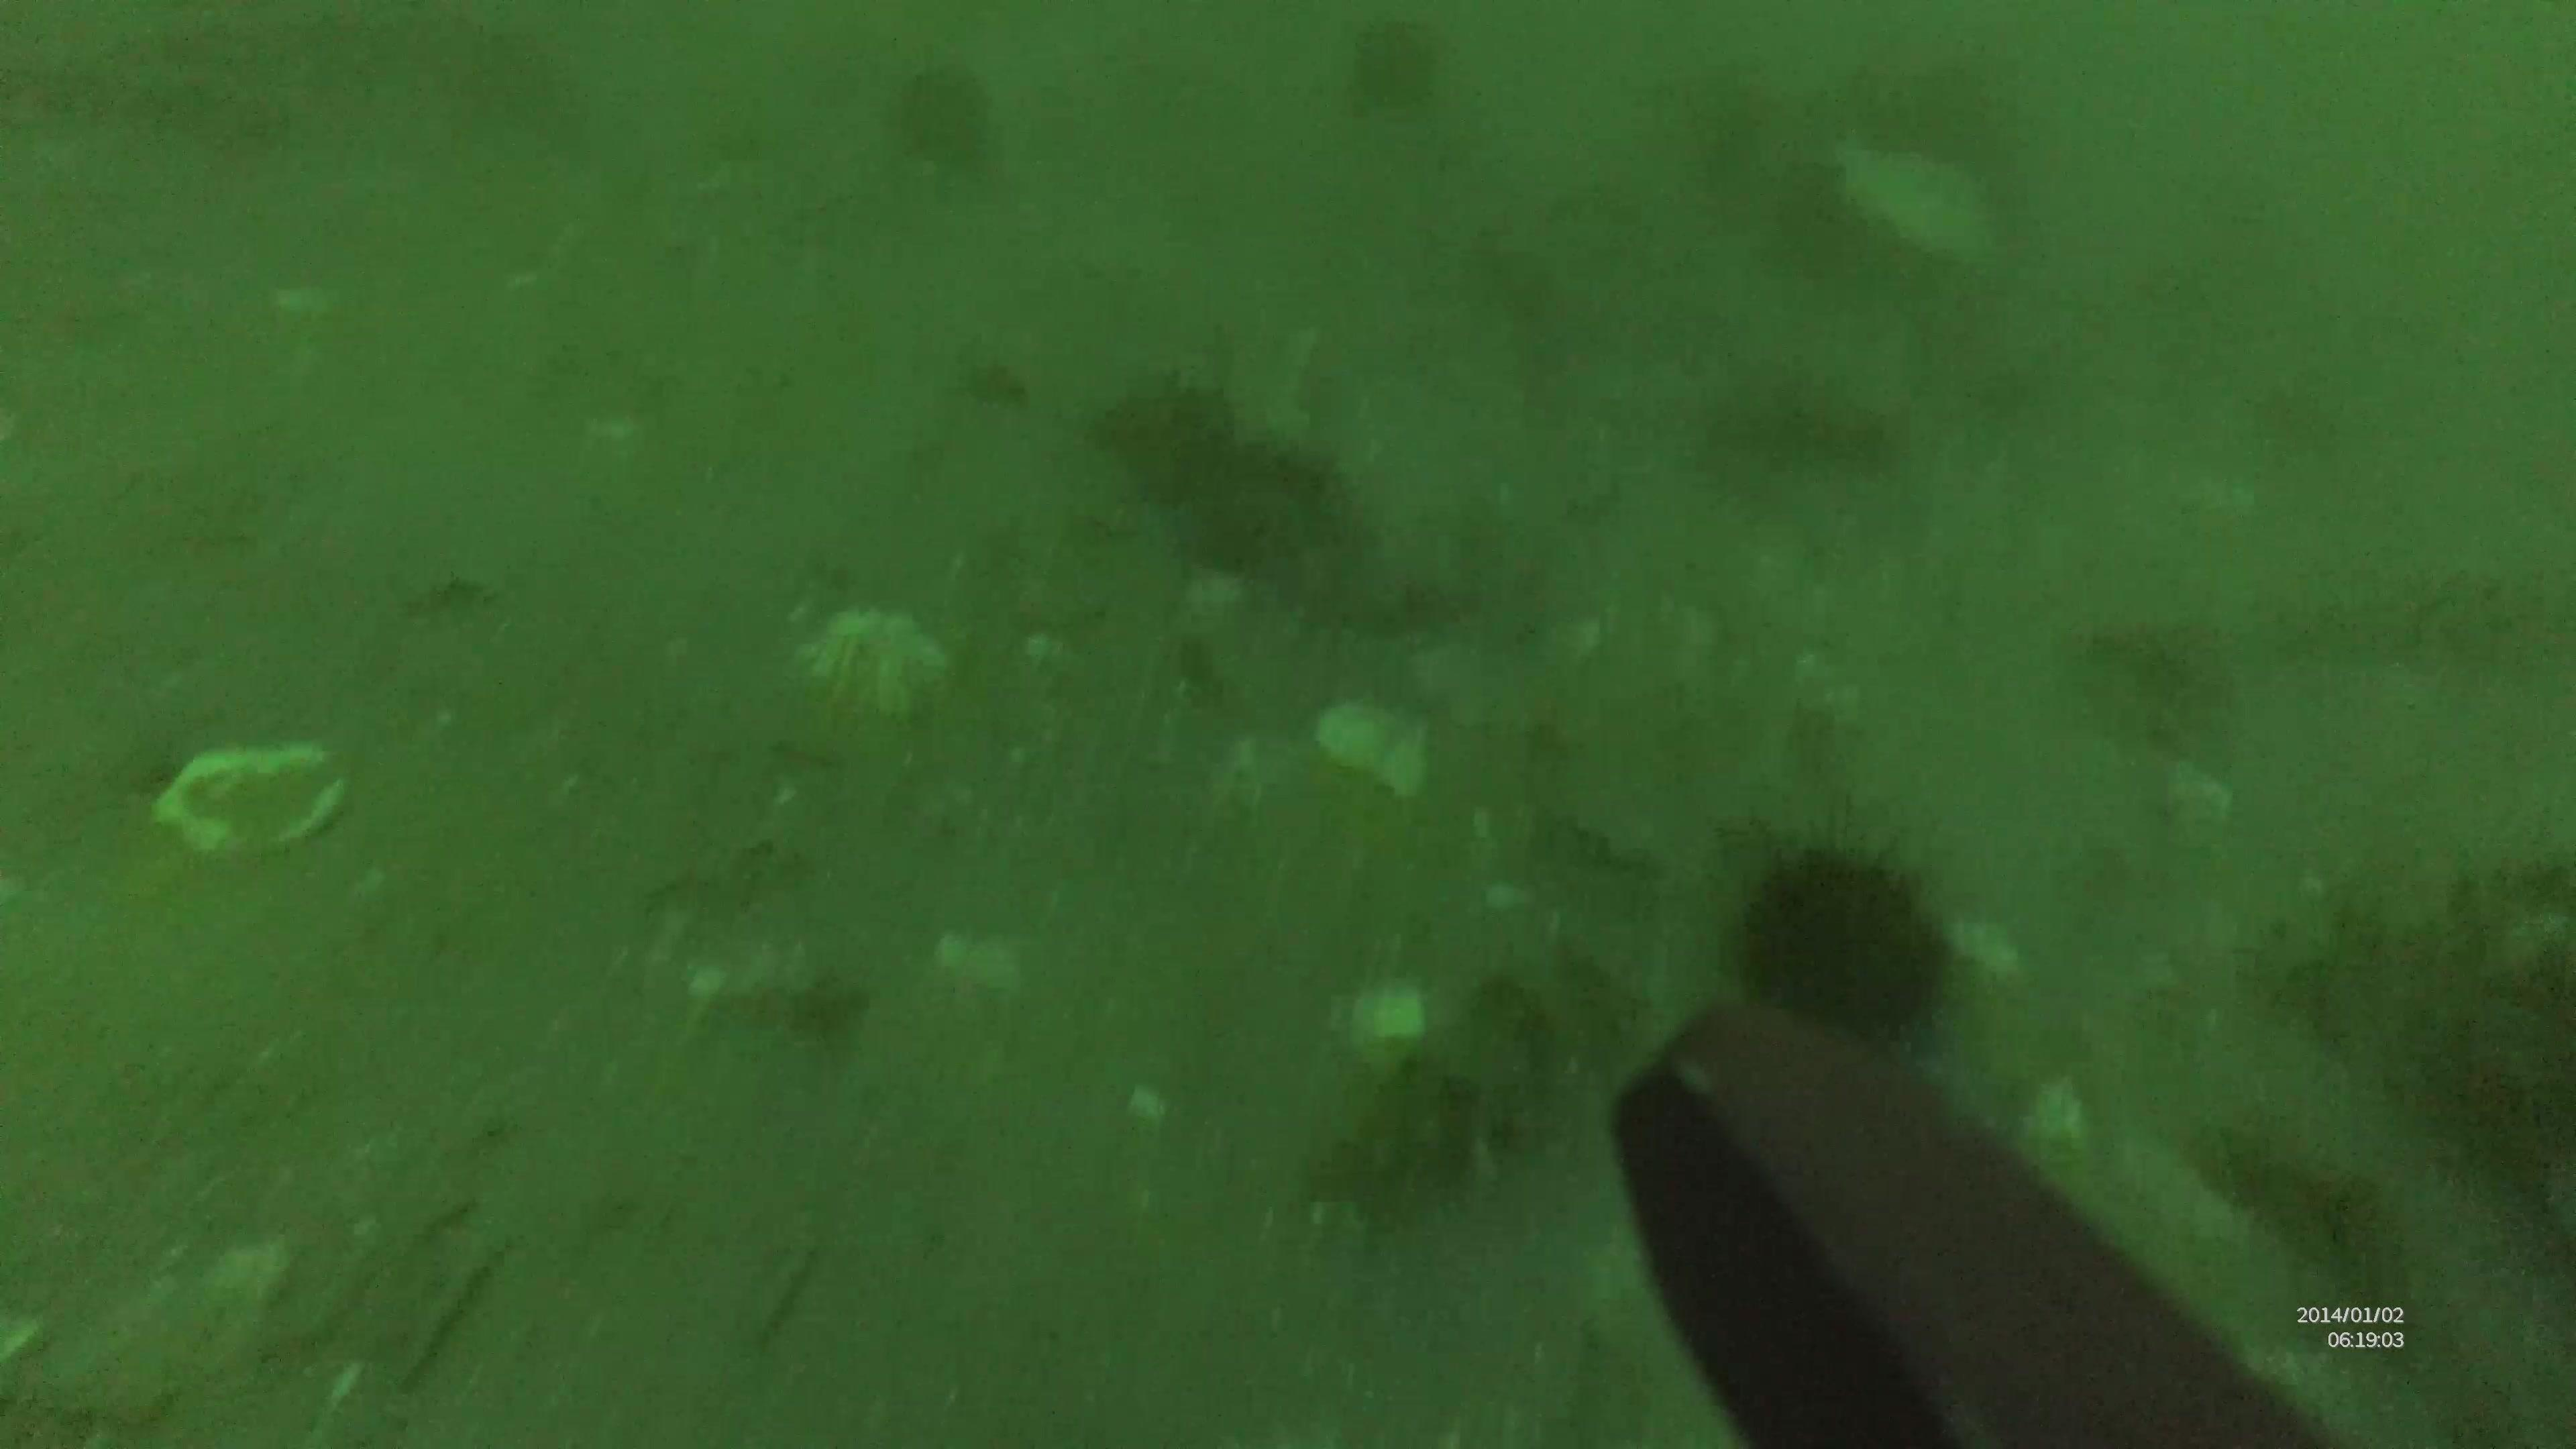echinus: (1743, 833, 1953, 1047)
scallop: (145, 734, 361, 858), (782, 602, 952, 717), (1309, 697, 1445, 814), (920, 922, 1030, 1007), (1350, 961, 1419, 1063)
